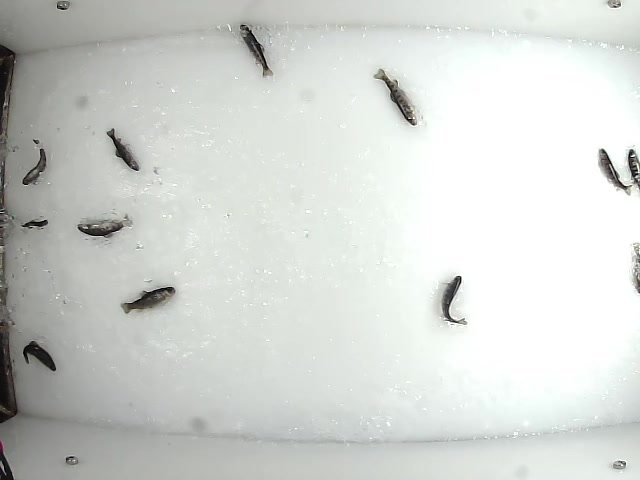fish: (372, 67, 418, 126), (595, 145, 634, 199), (238, 22, 274, 80), (118, 284, 177, 313), (74, 211, 134, 239), (105, 126, 142, 171), (437, 272, 467, 326), (21, 137, 47, 185), (22, 341, 58, 373), (16, 217, 60, 230)
